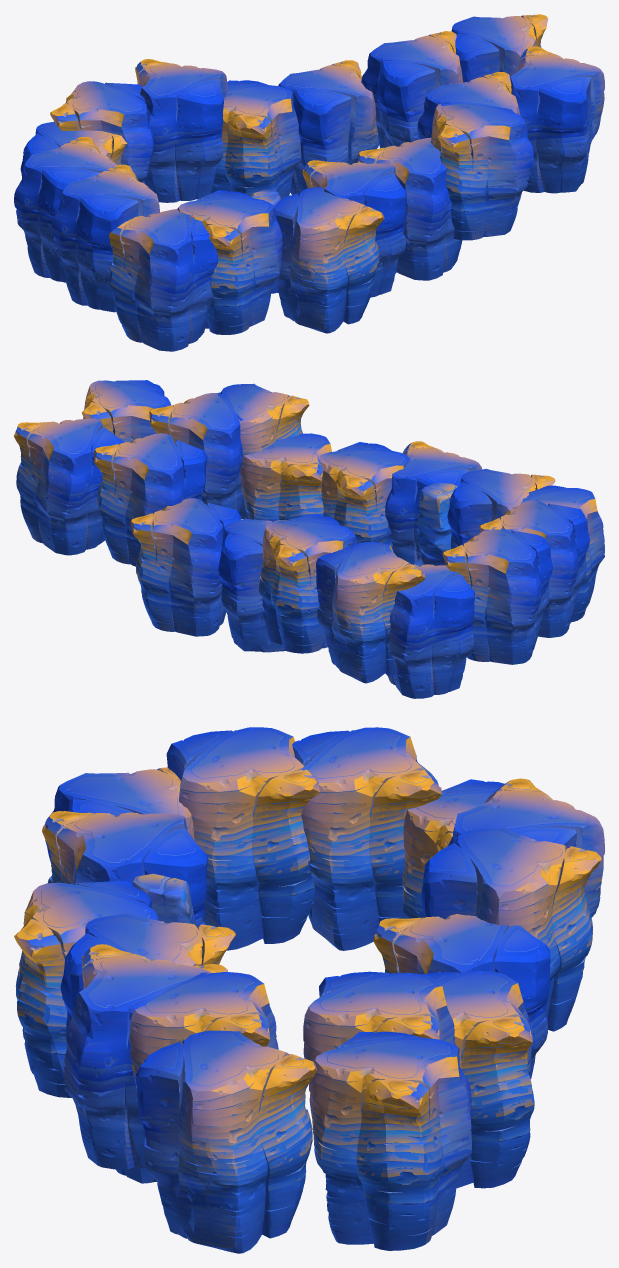
The model's file is sm_l5_shan_shi.fbx.
The picture shows the model from 3 angles, top to bottom: view 1: azimuth 30°, elevation 25°; view 2: azimuth 150°, elevation 25°; view 3: azimuth 270°, elevation 25°; orthographic projection. The views are drawn at different scales.
Visible parts, largest first — view 1: TFD_Canyon_Cliff_01A_LOD0_1, TFD_Canyon_Cliff_01A_LOD0_9.001, TFD_Rock_Large_15A_LOD0_15.001, TFD_Canyon_Cliff_01A_LOD0_28, TFD_Rock_Large_15A_LOD0_15.004, TFD_Canyon_Cliff_01A_LOD0_6, TFD_Canyon_Cliff_01A_LOD0_1.001, TFD_Canyon_Cliff_01B_LOD0_21, TFD_Canyon_Cliff_01B_LOD0_4, TFD_Canyon_Cliff_01B_LOD0_10, TFD_Rock_Large_15A_LOD0_15, TFD_Canyon_Cliff_01A_LOD0_1.002 (+5 smaller); view 2: TFD_Canyon_Cliff_01B_LOD0_4, TFD_Rock_Large_15A_LOD0_15.003, TFD_Canyon_Cliff_01A_LOD0_1.002, TFD_Canyon_Cliff_01A_LOD0_17, TFD_Canyon_Cliff_01A_LOD0_23, TFD_Rock_Large_15A_LOD0_15, TFD_Canyon_Cliff_01A_LOD0_28, TFD_Canyon_Cliff_01B_LOD0_10, TFD_Canyon_Cliff_01B_LOD0, TFD_Canyon_Cliff_01A_LOD0_1.001, TFD_Rock_Large_15A_LOD0_15.002, TFD_Canyon_Cliff_01B_LOD0_21 (+6 smaller); view 3: TFD_Rock_Large_15A_LOD0_15.004, TFD_Rock_Large_15A_LOD0_15.003, TFD_Canyon_Cliff_01A_LOD0_1.001, TFD_Canyon_Cliff_01A_LOD0_1.002, TFD_Canyon_Cliff_01A_LOD0_28, TFD_Rock_Large_15A_LOD0_15.001, TFD_Canyon_Cliff_01B_LOD0_4, TFD_Canyon_Cliff_01A_LOD0_9.001, TFD_Canyon_Cliff_01A_LOD0_6, TFD_Canyon_Cliff_01B_LOD0_21, TFD_Rock_Large_15A_LOD0_15, TFD_Rock_Large_15A_LOD0_15.002 (+5 smaller).
Part boxes in pixels (bbox=[...]): TFD_Canyon_Cliff_01A_LOD0_1: bbox=[109, 209, 218, 351]; TFD_Canyon_Cliff_01A_LOD0_9.001: bbox=[274, 187, 384, 333]; TFD_Rock_Large_15A_LOD0_15.001: bbox=[431, 103, 533, 240]; TFD_Canyon_Cliff_01A_LOD0_28: bbox=[135, 59, 227, 202]; TFD_Rock_Large_15A_LOD0_15.004: bbox=[510, 46, 604, 193]; TFD_Canyon_Cliff_01A_LOD0_6: bbox=[177, 190, 282, 334]; TFD_Canyon_Cliff_01A_LOD0_1.001: bbox=[51, 164, 160, 312]; TFD_Canyon_Cliff_01B_LOD0_21: bbox=[211, 80, 301, 198]; TFD_Canyon_Cliff_01B_LOD0_4: bbox=[278, 60, 378, 196]; TFD_Canyon_Cliff_01B_LOD0_10: bbox=[357, 137, 462, 280]; TFD_Rock_Large_15A_LOD0_15: bbox=[361, 31, 463, 148]; TFD_Canyon_Cliff_01A_LOD0_1.002: bbox=[14, 136, 116, 282]; TFD_Canyon_Cliff_01B_LOD0_4: bbox=[130, 498, 241, 636]; TFD_Rock_Large_15A_LOD0_15.003: bbox=[14, 418, 123, 555]; TFD_Canyon_Cliff_01A_LOD0_1.002: bbox=[442, 528, 552, 664]; TFD_Canyon_Cliff_01A_LOD0_17: bbox=[316, 541, 425, 683]; TFD_Canyon_Cliff_01A_LOD0_23: bbox=[388, 564, 474, 698]; TFD_Rock_Large_15A_LOD0_15: bbox=[94, 433, 207, 566]; TFD_Canyon_Cliff_01A_LOD0_28: bbox=[258, 514, 357, 653]; TFD_Canyon_Cliff_01B_LOD0_10: bbox=[240, 433, 331, 521]; TFD_Canyon_Cliff_01B_LOD0: bbox=[320, 442, 409, 551]; TFD_Canyon_Cliff_01A_LOD0_1.001: bbox=[479, 500, 589, 637]; TFD_Rock_Large_15A_LOD0_15.002: bbox=[149, 393, 243, 512]; TFD_Canyon_Cliff_01B_LOD0_21: bbox=[218, 518, 286, 652]; TFD_Rock_Large_15A_LOD0_15.004: bbox=[135, 1030, 316, 1253]; TFD_Rock_Large_15A_LOD0_15.003: bbox=[309, 1031, 472, 1250]; TFD_Canyon_Cliff_01A_LOD0_1.001: bbox=[166, 727, 319, 950]; TFD_Canyon_Cliff_01A_LOD0_1.002: bbox=[292, 727, 441, 950]; TFD_Canyon_Cliff_01A_LOD0_28: bbox=[421, 828, 601, 1031]; TFD_Rock_Large_15A_LOD0_15.001: bbox=[64, 944, 211, 1169]; TFD_Canyon_Cliff_01B_LOD0_4: bbox=[422, 970, 534, 1188]; TFD_Canyon_Cliff_01A_LOD0_9.001: bbox=[14, 881, 158, 1097]; TFD_Canyon_Cliff_01A_LOD0_6: bbox=[42, 811, 207, 927]; TFD_Canyon_Cliff_01B_LOD0_21: bbox=[373, 914, 550, 1078]; TFD_Rock_Large_15A_LOD0_15: bbox=[303, 971, 455, 1061]; TFD_Rock_Large_15A_LOD0_15.002: bbox=[129, 972, 278, 1092].
Bounding box in the file's own units: 20537 × 5497 × 12743.
